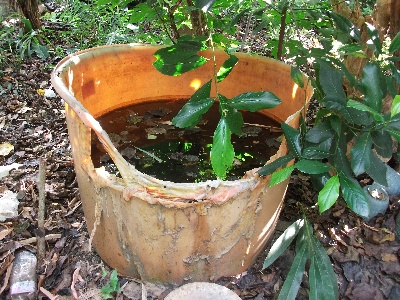bottle: (8, 251, 38, 300)
bucket: (51, 42, 314, 280)
